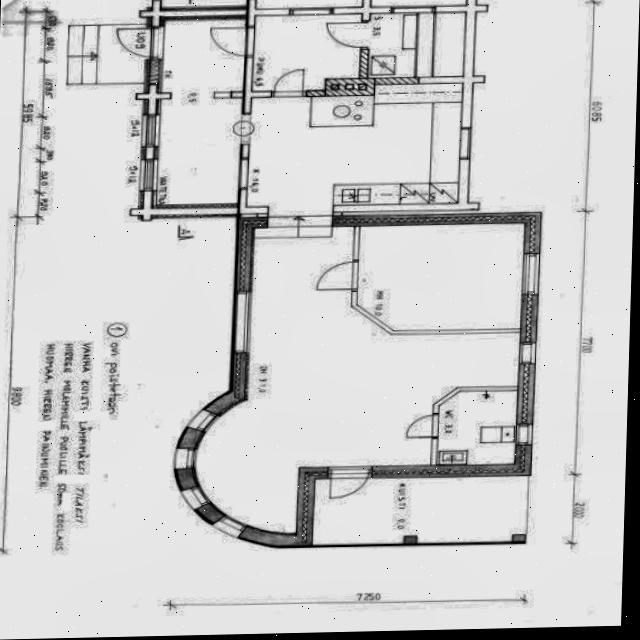room: (355, 223, 526, 331), (250, 14, 362, 91), (366, 12, 466, 78), (160, 19, 246, 93), (435, 391, 518, 465)
